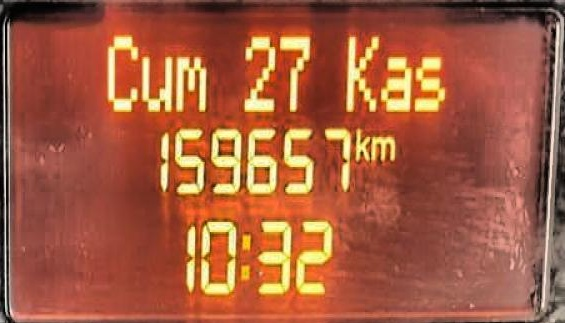0: (198, 218, 236, 295)
1: (182, 222, 196, 292), (157, 130, 168, 191)
2: (292, 216, 332, 295), (241, 33, 275, 112)
3: (255, 220, 291, 293)
5: (172, 125, 205, 193), (281, 125, 313, 193)
6: (244, 125, 277, 193)
7: (279, 33, 310, 112), (322, 125, 349, 191)
9: (207, 127, 241, 193)
X: (103, 33, 137, 112), (343, 32, 376, 112), (172, 55, 207, 111), (412, 53, 445, 112), (139, 53, 172, 112), (378, 55, 412, 111), (237, 230, 251, 280), (369, 135, 395, 160), (353, 125, 368, 161)
